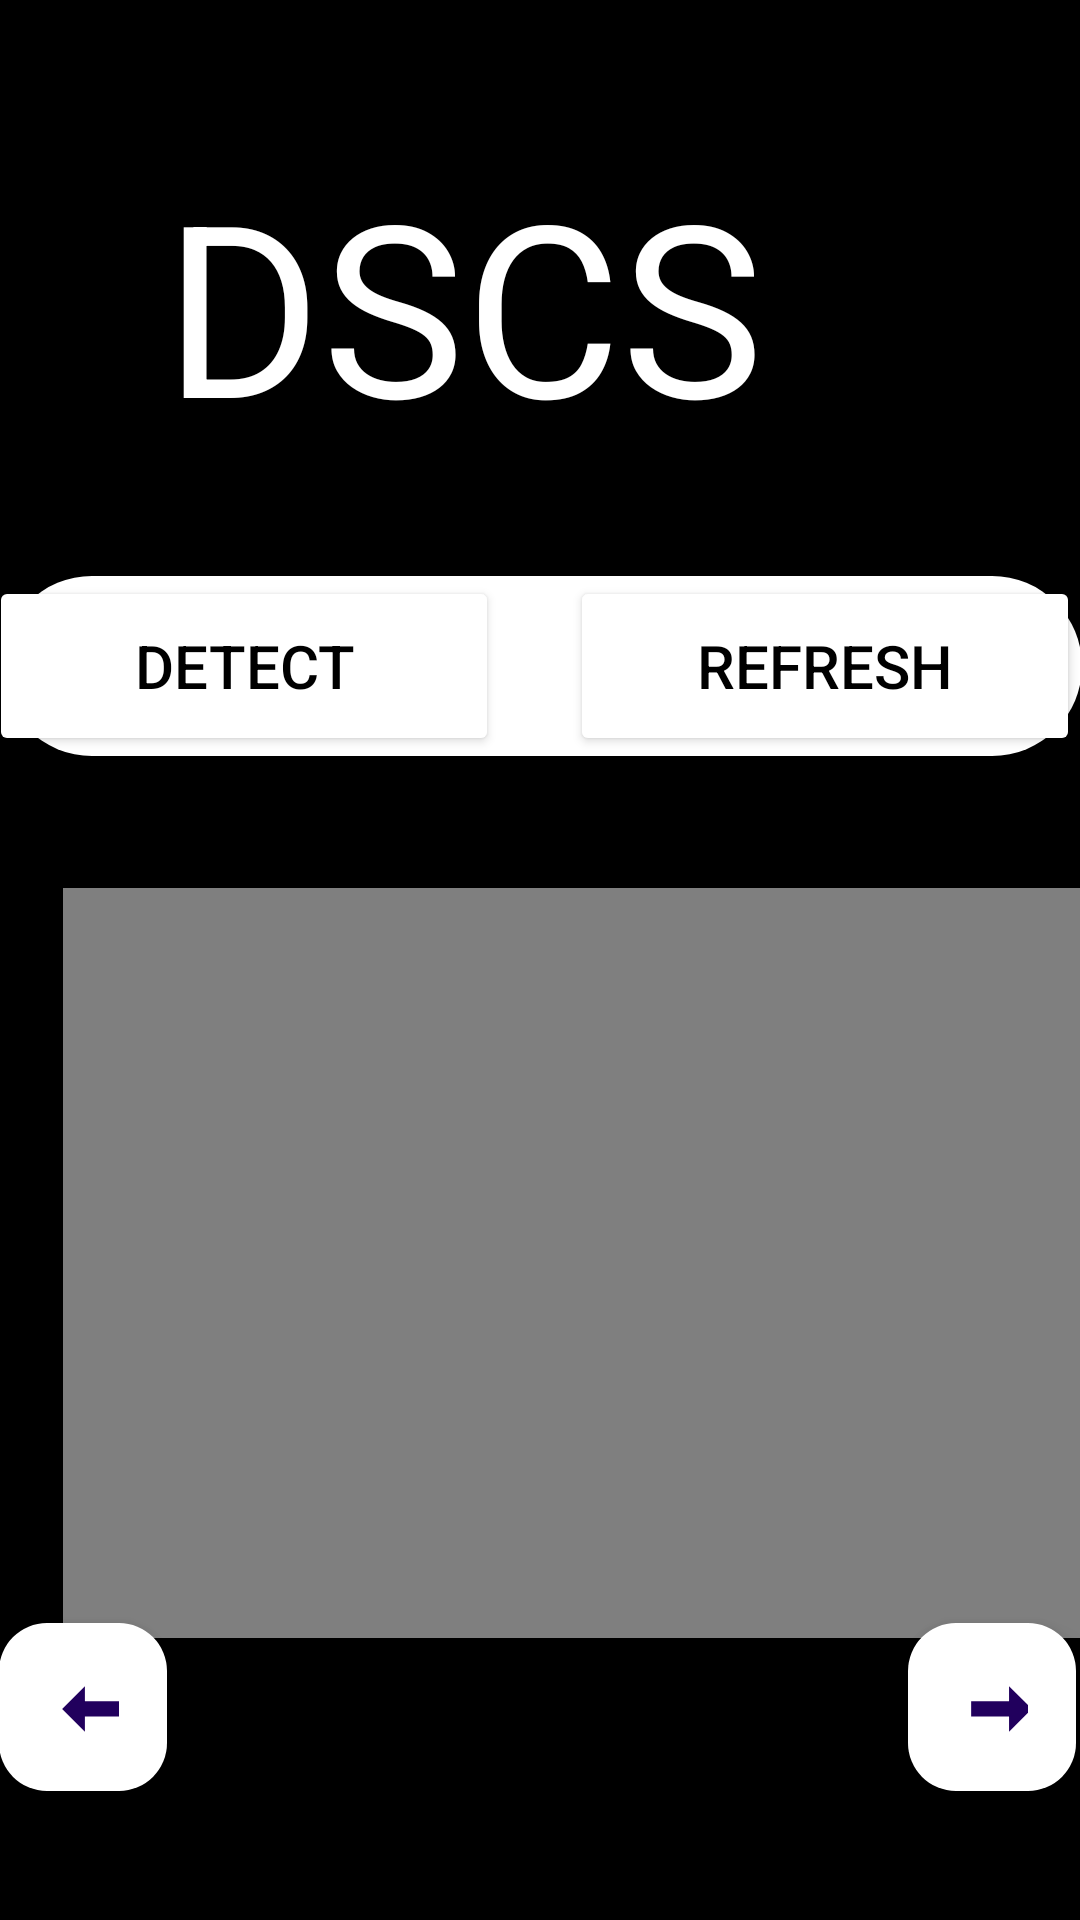

Where icons sit on this 1080px×1920px app screen, as {"left": x1, "top": y1, "right": x2, "bottom": y2}:
arrow back: {"left": 0, "top": 1623, "right": 167, "bottom": 1791}
arrow back right: {"left": 908, "top": 1623, "right": 1076, "bottom": 1791}
